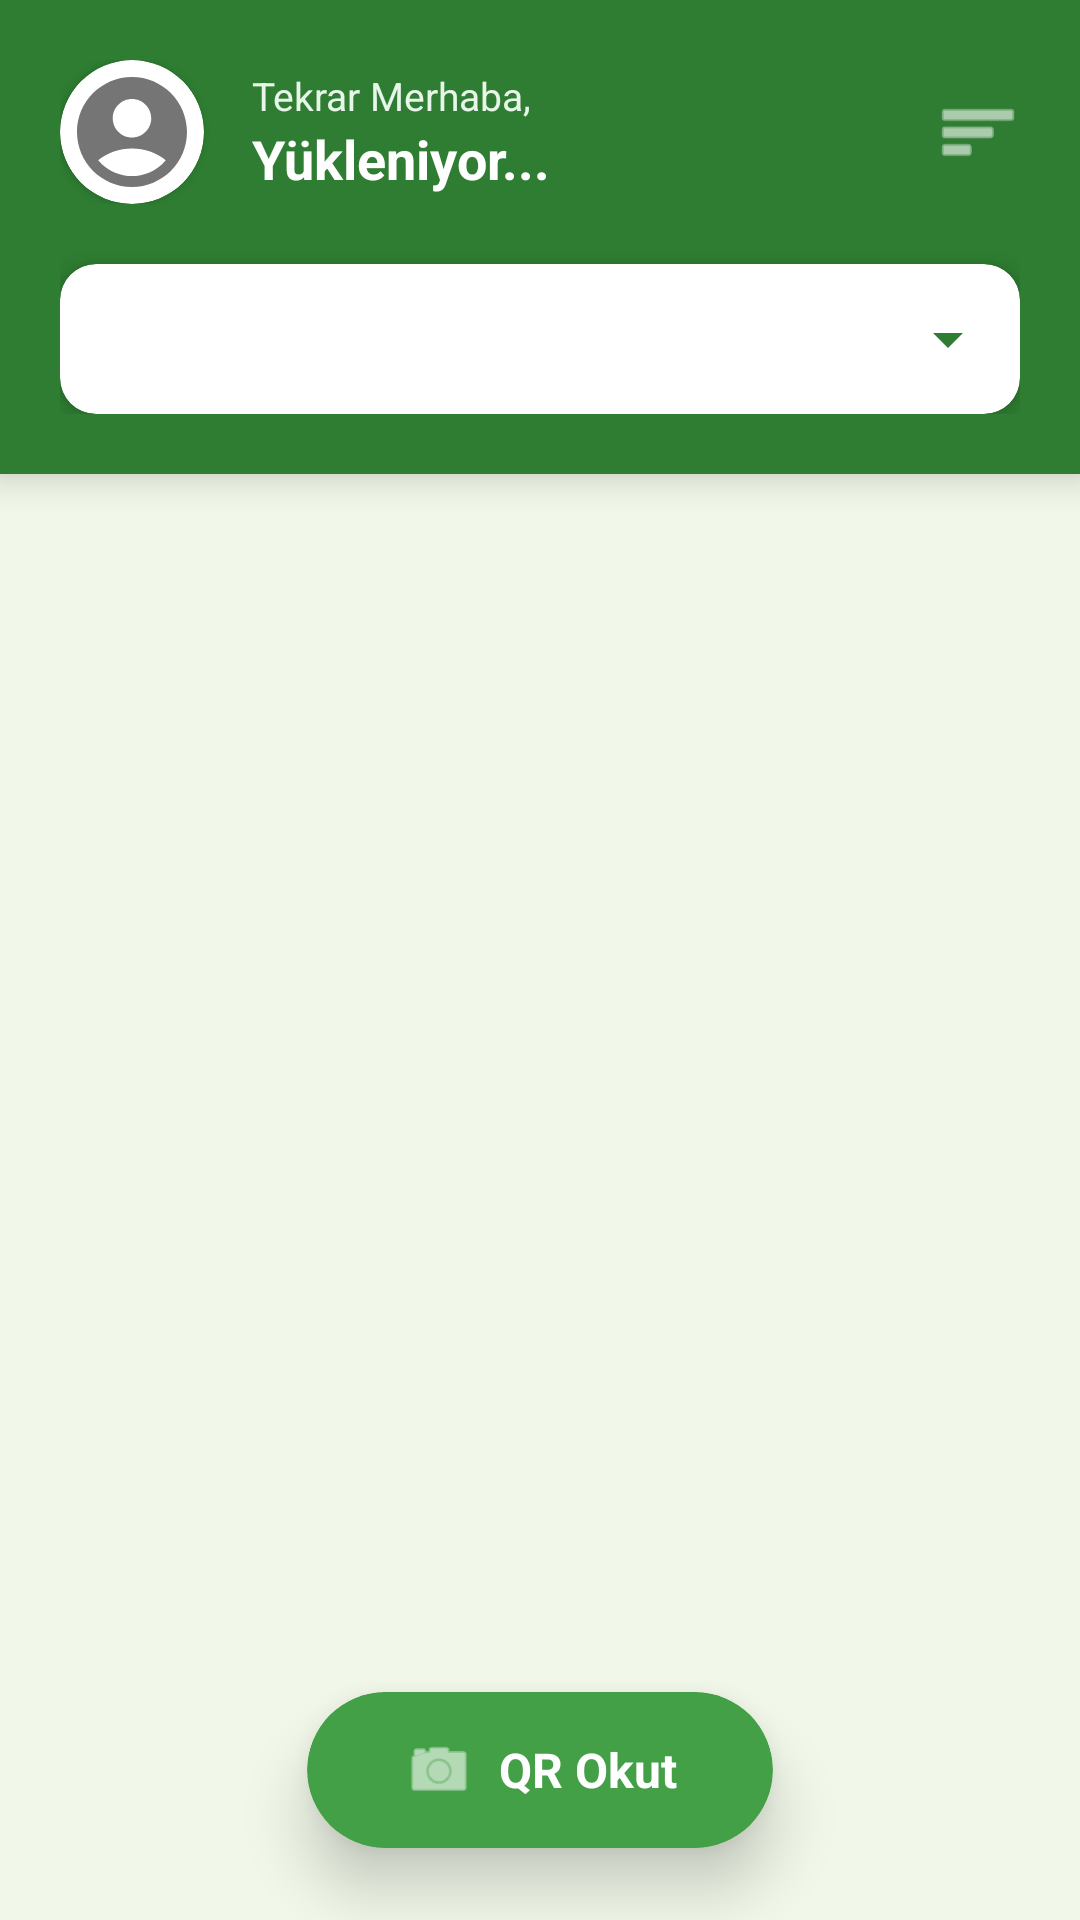

Icons on this 1080*1920 Android screen, each with the point to tap as [x,y]:
camera: [439,1769]
sort by size: [978,132]
